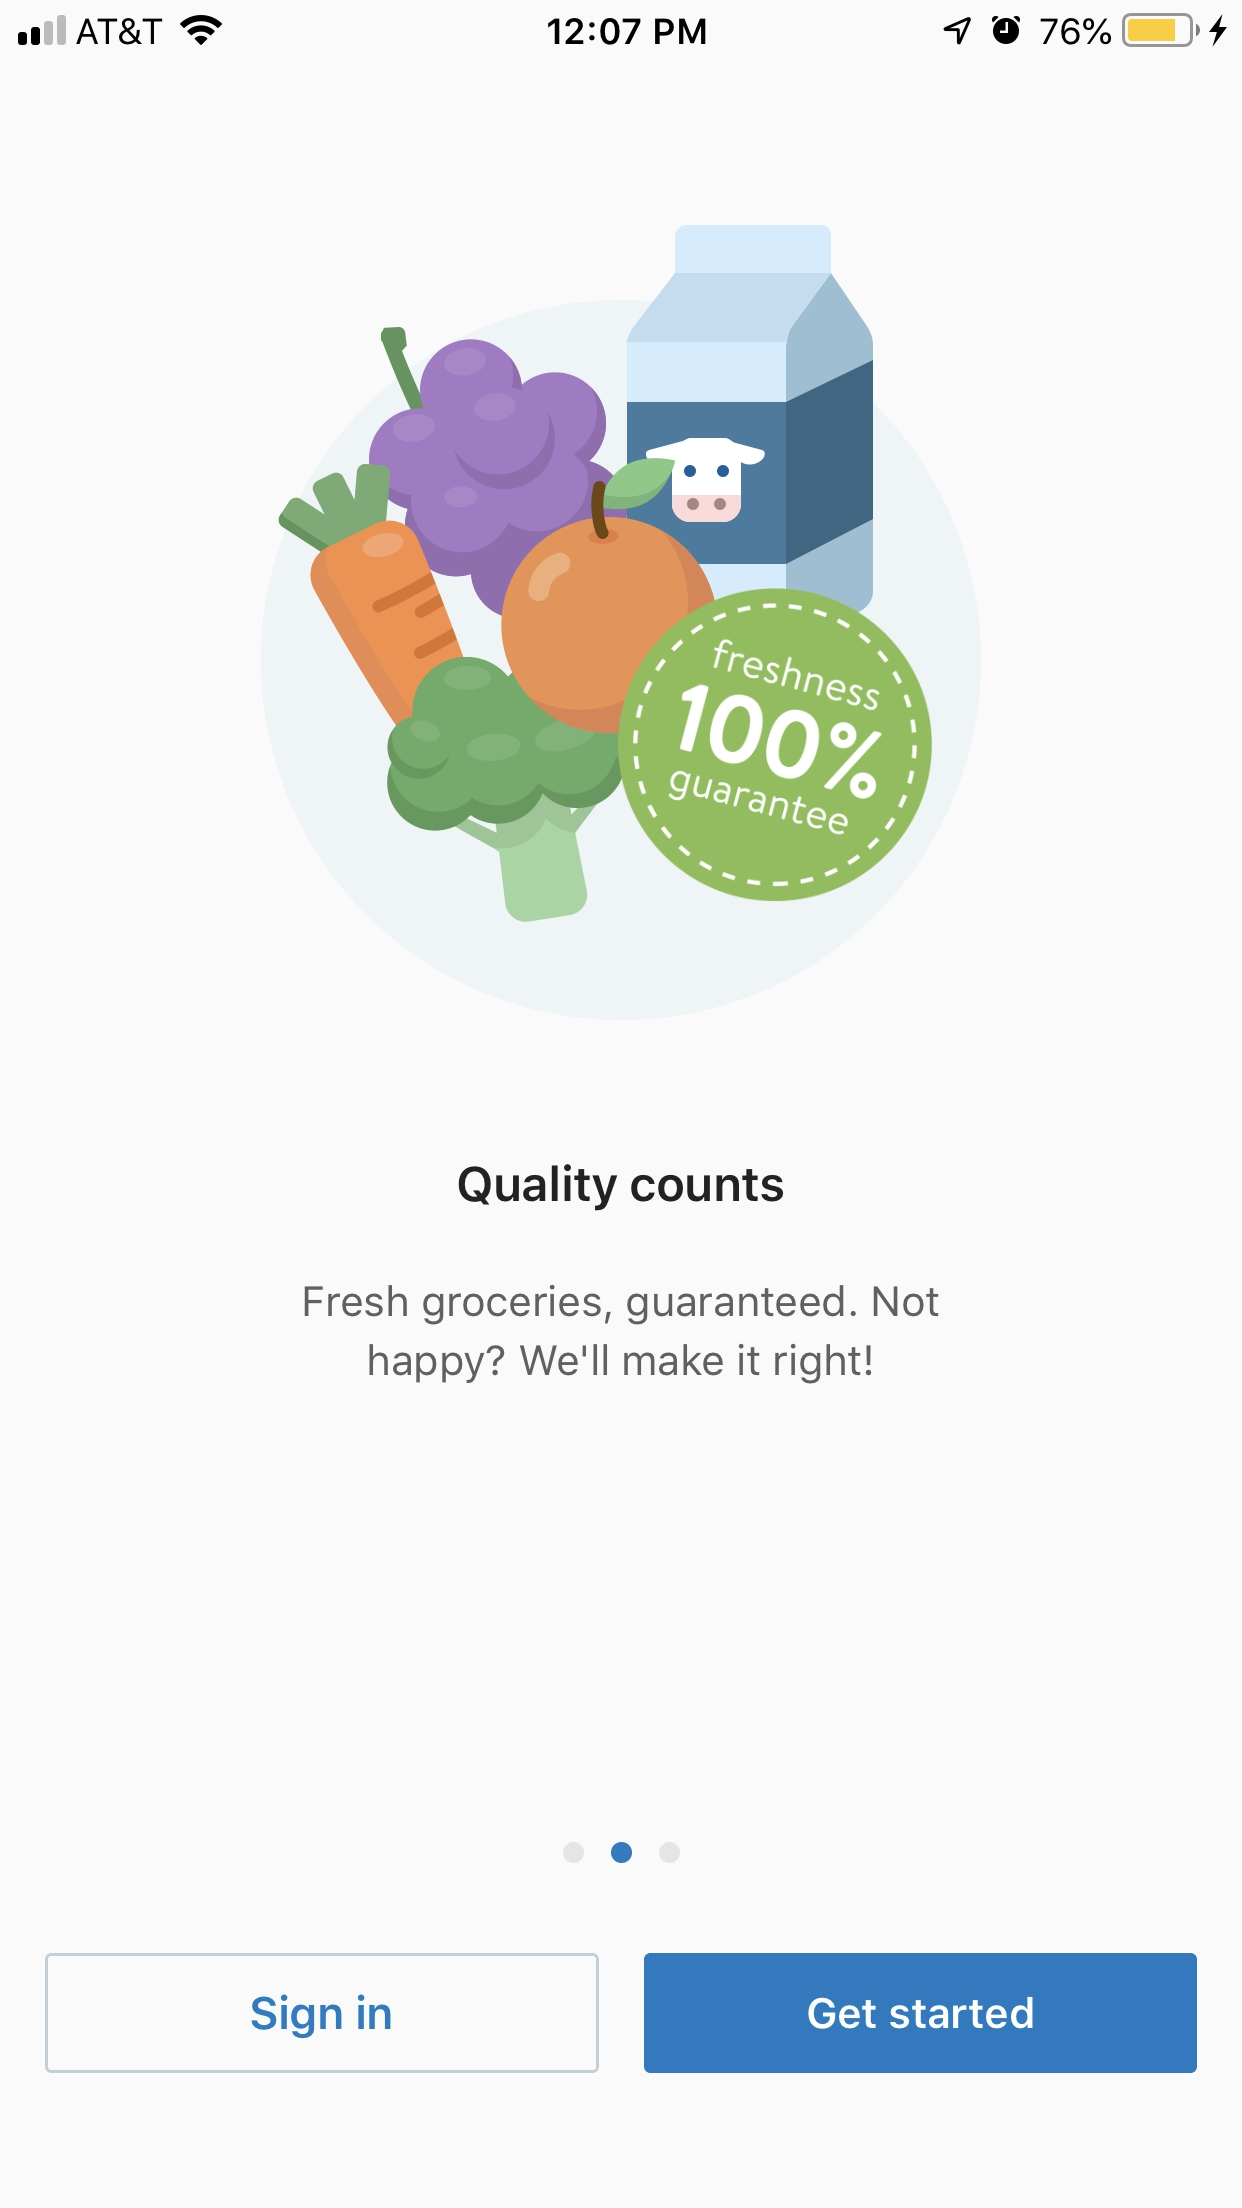Image: (259, 223, 983, 1022)
PageIndicator: (563, 1841, 682, 1865)
Text: (305, 1284, 940, 1385), (459, 1165, 786, 1212)
TextButton: (45, 1952, 601, 2075), (645, 1952, 1198, 2075)
UpperTaskBar: (2, 2, 1242, 49)
